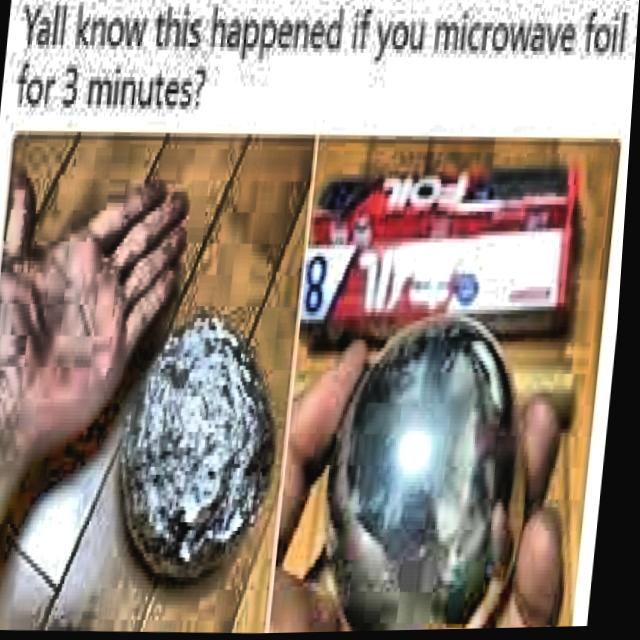Foil: (99, 301, 302, 599)
